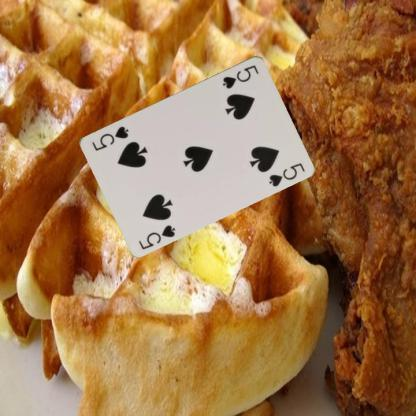5s: (136, 222, 177, 251), (220, 62, 260, 90)
